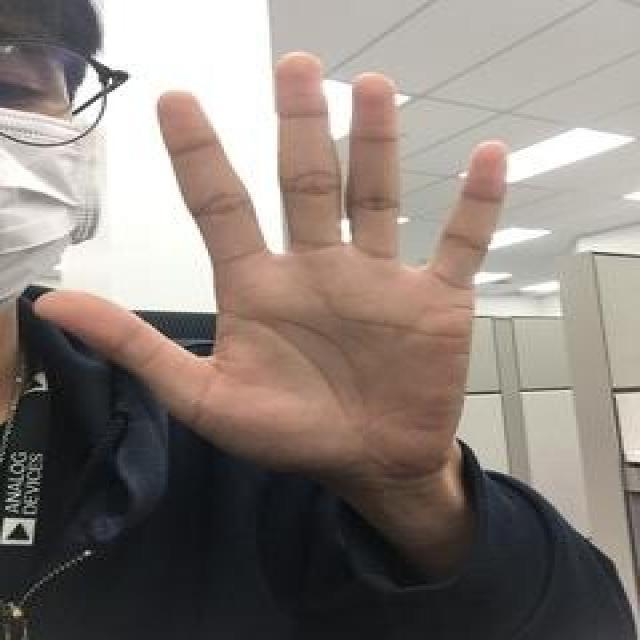hand: (24, 42, 515, 492)
